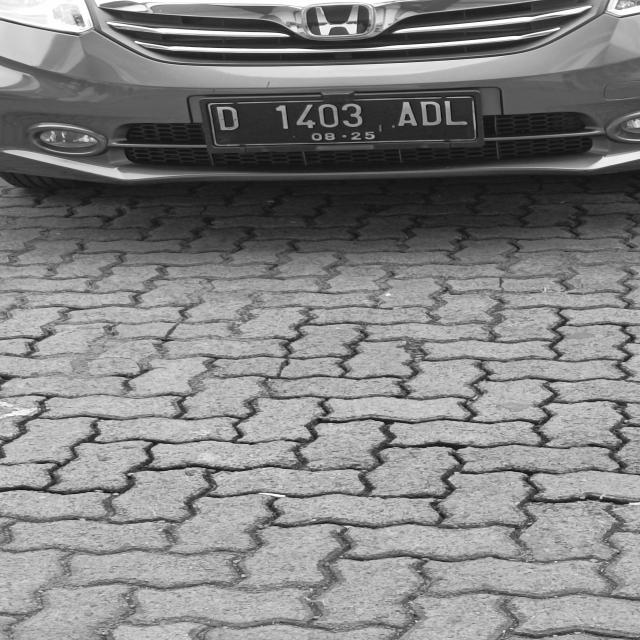license-plat: (166, 76, 505, 177)
